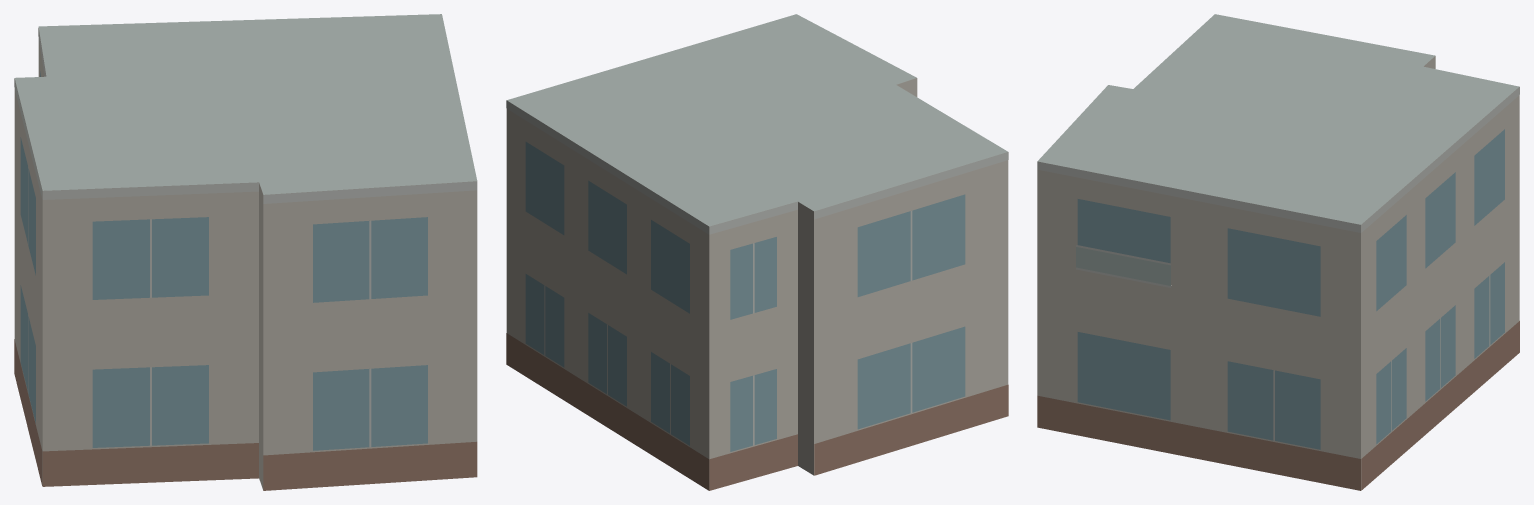
The model's file is survey-upis-32743244.glb.
3 renders of one model, left to right at view 1: azimuth 30°, elevation 25°; view 2: azimuth 150°, elevation 25°; view 3: azimuth 270°, elevation 25°, orthographic. The views are drawn at different scales.
Visible parts, largest first — view 1: survey-upis-32743244.tmp; view 2: survey-upis-32743244.tmp; view 3: survey-upis-32743244.tmp.
Boxes of the visible parts, <box> form: survey-upis-32743244.tmp: <box>14,14,477,490</box>; survey-upis-32743244.tmp: <box>506,14,1008,490</box>; survey-upis-32743244.tmp: <box>1037,14,1519,490</box>.
Bounding box in the file's own units: 13.44 × 7.9 × 12.99.
